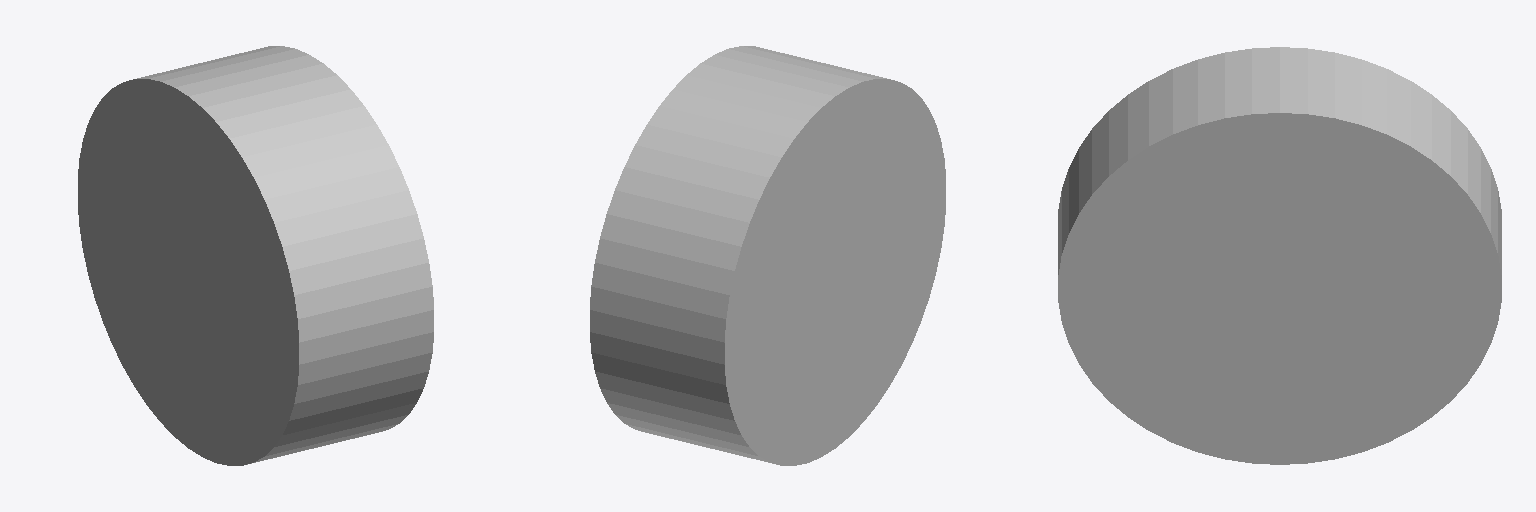
The model's file is new new target.obj.
The picture shows the model from 3 angles: view 1: azimuth 30°, elevation 25°; view 2: azimuth 150°, elevation 25°; view 3: azimuth 270°, elevation 25°; orthographic projection.
Parts seen in each view (by area): view 1: pCube3_meshId0_name; view 2: pCube3_meshId0_name; view 3: pCube3_meshId0_name.
Boxes of the visible parts, x1=… form: pCube3_meshId0_name: x1=78, y1=46, x2=433, y2=465; pCube3_meshId0_name: x1=590, y1=46, x2=945, y2=465; pCube3_meshId0_name: x1=1058, y1=47, x2=1501, y2=464.
Size of the model in its own units: 0.3663 by 0.9129 by 1.04.